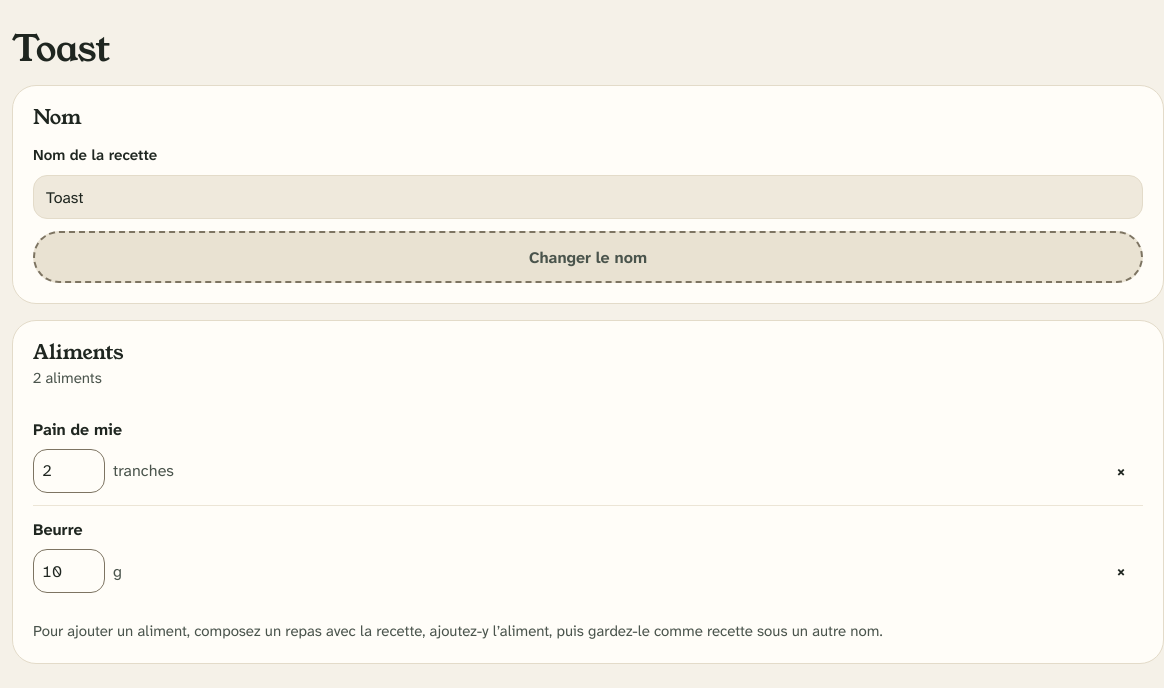
Test case: RecipeDetailView › corrige une quantité sur `change`, en convertissant la mesure en grammes
Replace the text in the number field labelled "tranches" with "3" at (69, 471), box [33, 449, 105, 493]
(page scrolled)
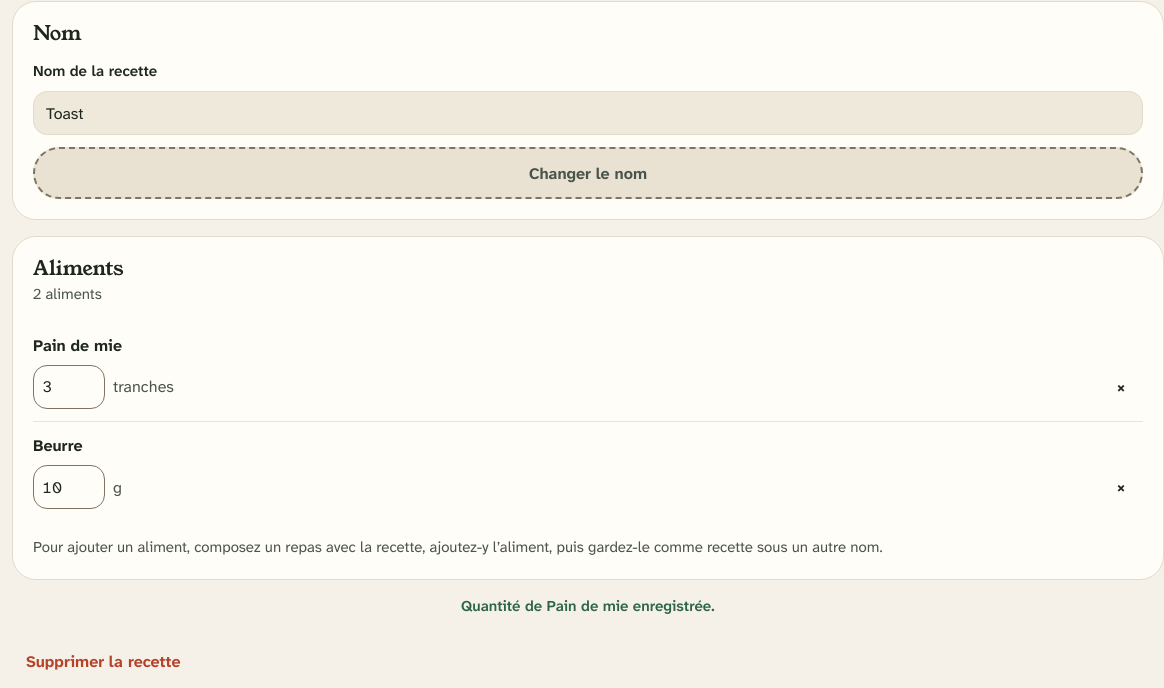
Expected: the message with class "recipe__feedback" shows "Pain de mie", [461, 596, 715, 616]
